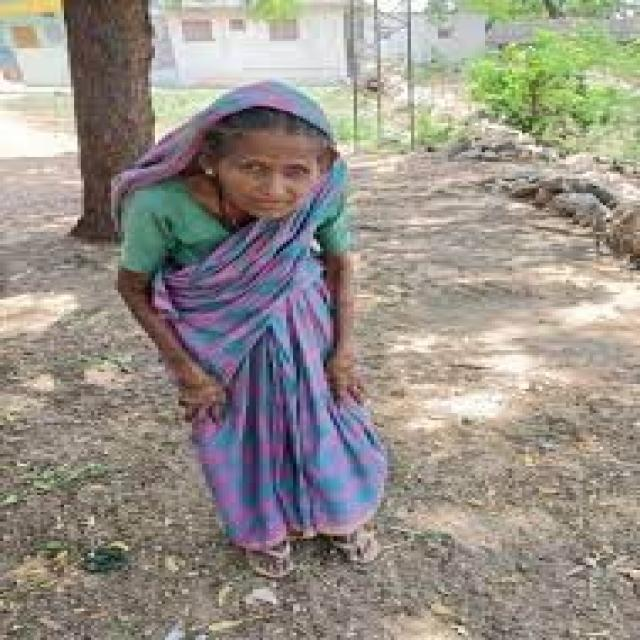idoso em pe: (114, 89, 413, 580)
